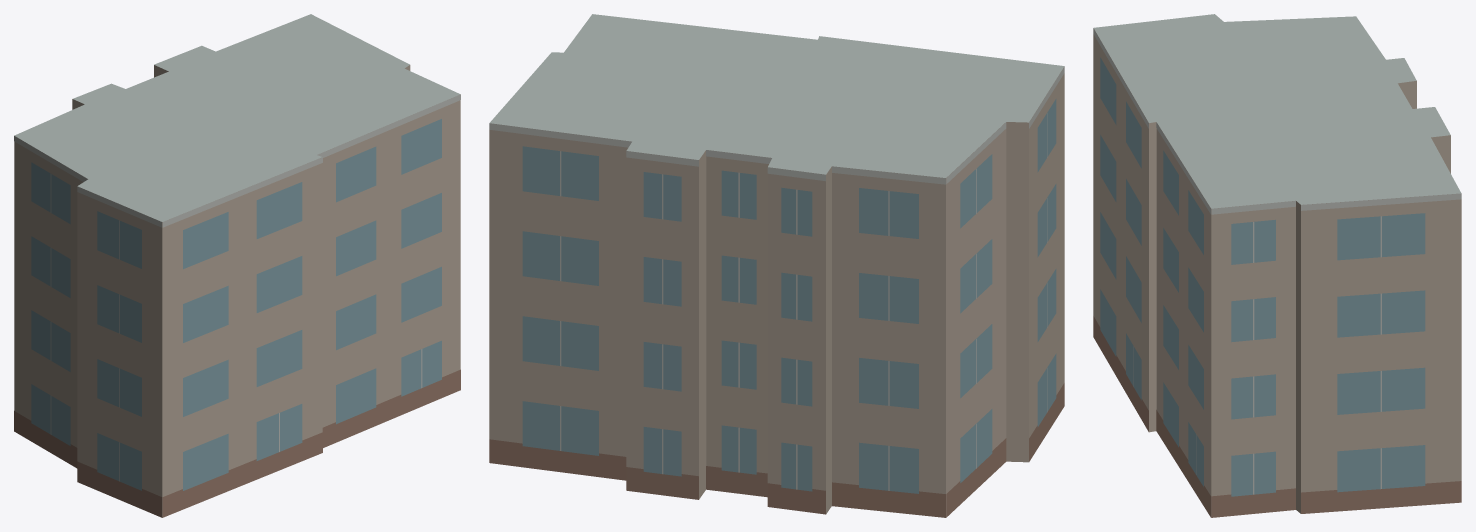
Rendered from survey-upis-32959479.glb.
3 renders of one model, left to right at view 1: azimuth 30°, elevation 25°; view 2: azimuth 150°, elevation 25°; view 3: azimuth 270°, elevation 25°, orthographic. The views are drawn at different scales.
Visible parts, largest first — view 1: survey-upis-32959479.tmp; view 2: survey-upis-32959479.tmp; view 3: survey-upis-32959479.tmp.
Boxes of the visible parts, bbox=[...] form: survey-upis-32959479.tmp: bbox=[14, 14, 460, 517]; survey-upis-32959479.tmp: bbox=[489, 14, 1064, 517]; survey-upis-32959479.tmp: bbox=[1093, 14, 1461, 517].
Bounding box in the file's own units: 17.03 × 12.6 × 13.61.
